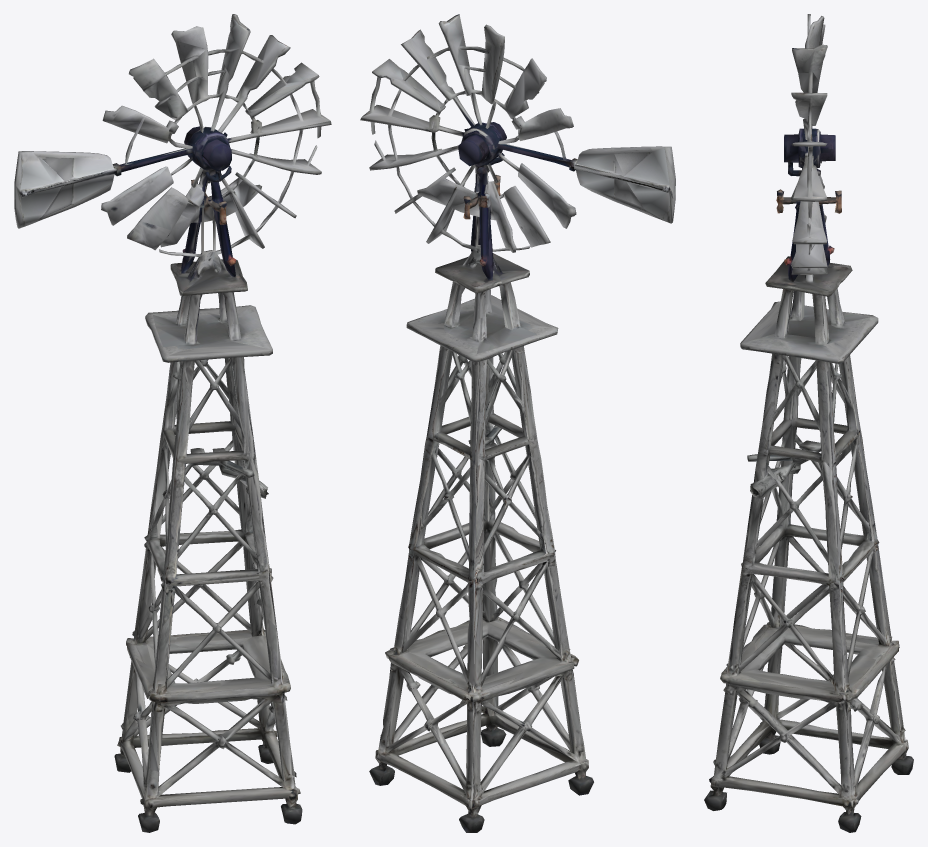
File: prop_gulch_windpump.fbx
3 renders of one model, left to right at view 1: azimuth 30°, elevation 25°; view 2: azimuth 150°, elevation 25°; view 3: azimuth 270°, elevation 25°, orthographic.
Visible parts, largest first — view 1: prop_gulch_windpump_LOD0; view 2: prop_gulch_windpump_LOD0; view 3: prop_gulch_windpump_LOD0.
Boxes of the visible parts, x1=… form: prop_gulch_windpump_LOD0: x1=14, y1=14, x2=331, y2=832; prop_gulch_windpump_LOD0: x1=360, y1=14, x2=675, y2=832; prop_gulch_windpump_LOD0: x1=704, y1=14, x2=913, y2=832.
Size of what is drawn, in the model's own units: 0.4117 by 0.9834 by 0.2446.
